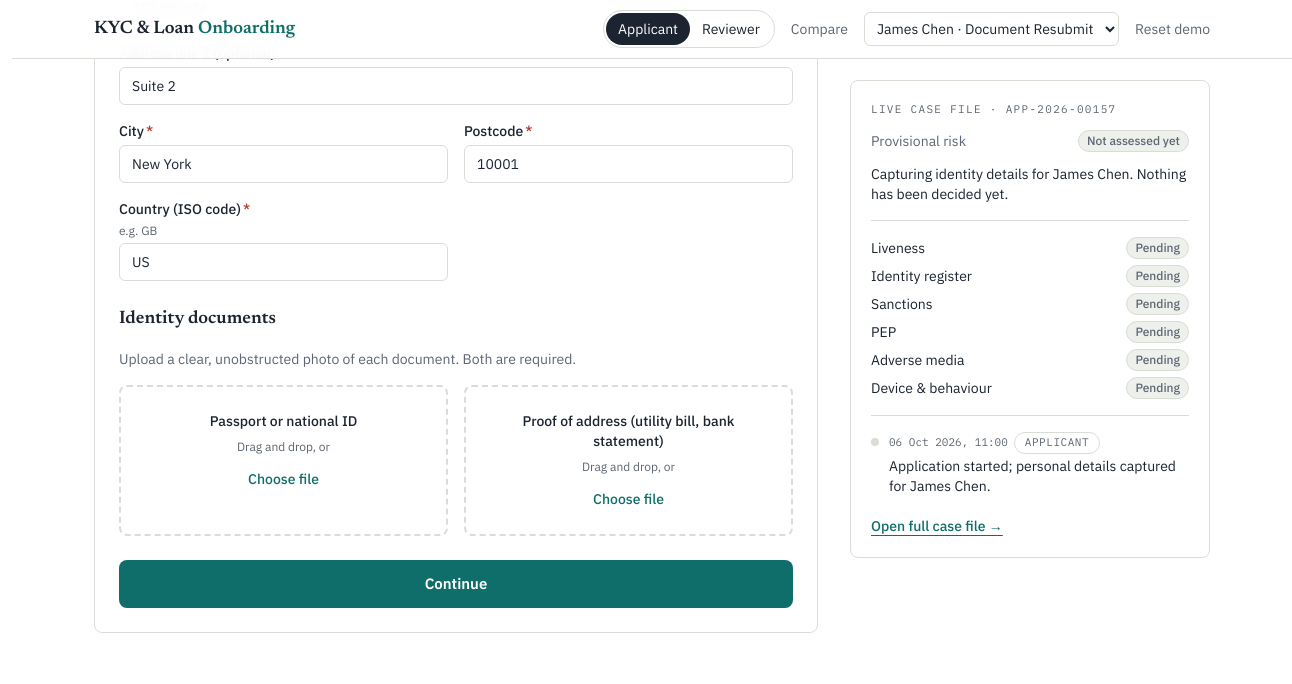
ApplyPage › a blurry scan asks for a re-upload, then verification completes
(page scrolled)
What coordinates should you click on to do the following:
click the button "Continue"
I would click on:
 (456, 584)
Its box is [119,560,793,608].
(page scrolled)
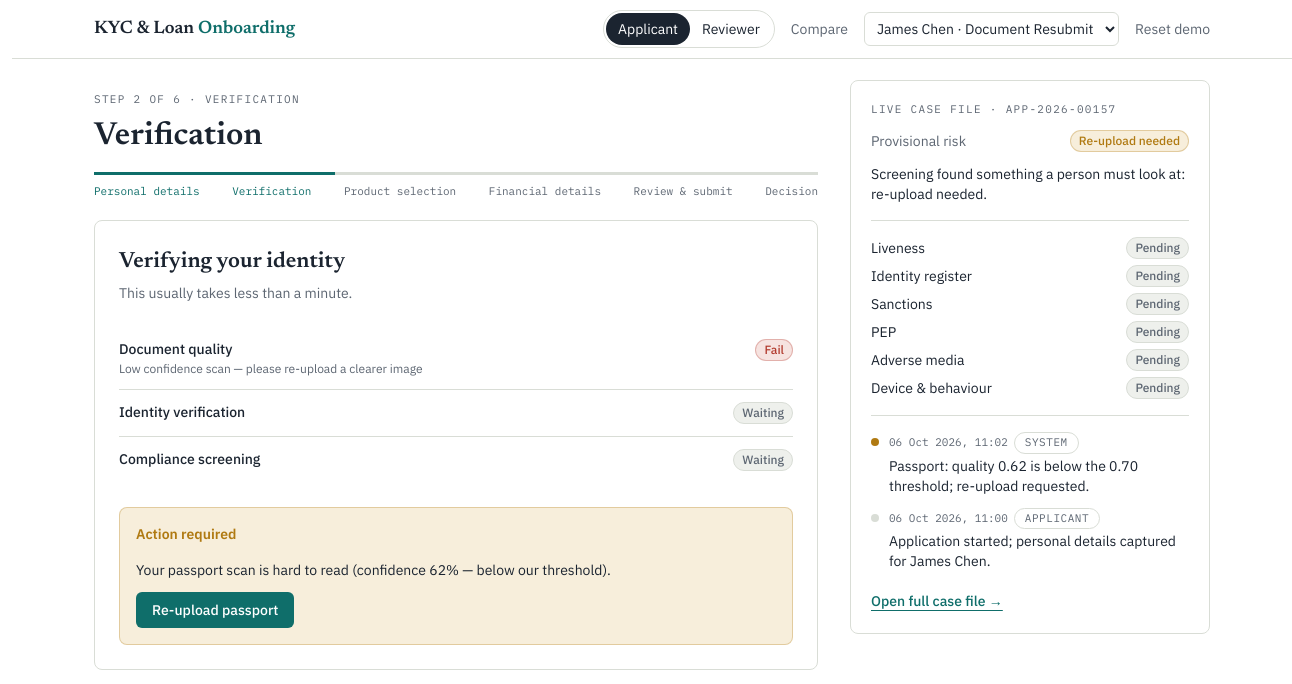
Check: the text "62% — below our threshold" is shown, box [136,561,611,579]
What coordinates should you click on to do the following:
click the button "Re-upload passport"
I would click on:
 (215, 610)
Its box is [136,592,294,628].
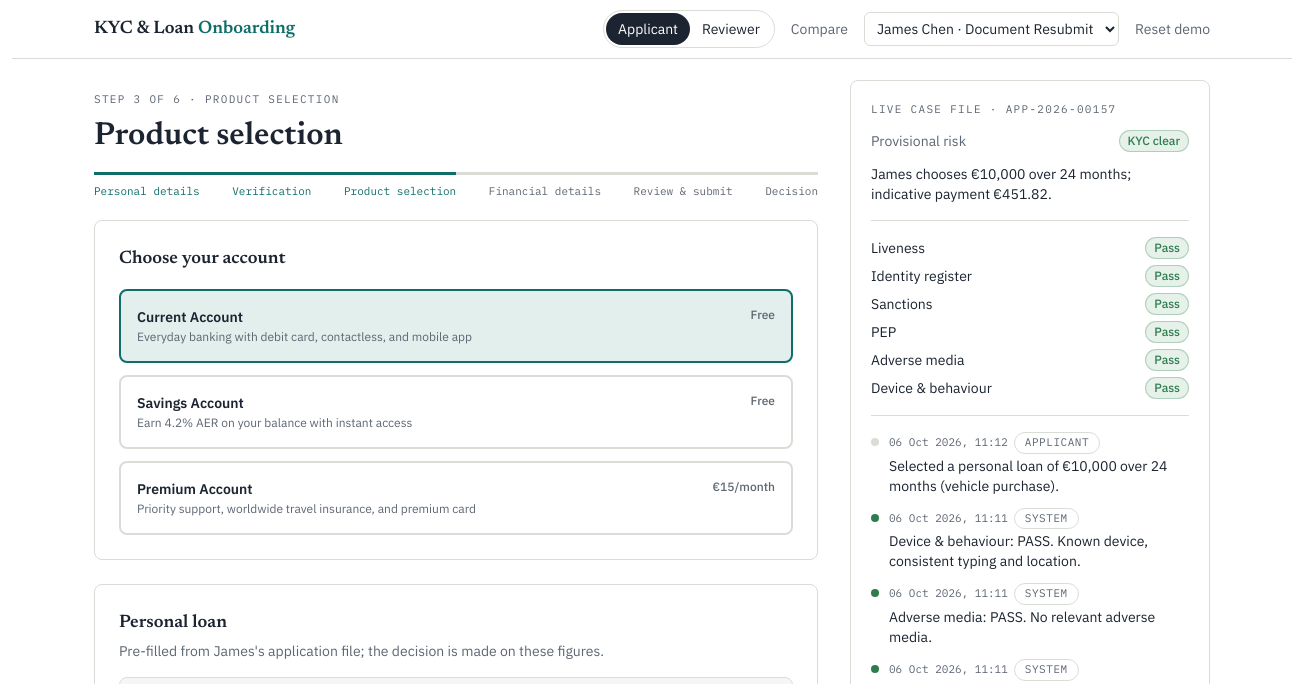
Check: the text "Step 3 of 6 · Product selection" is shown, box [94,92,340,106]
